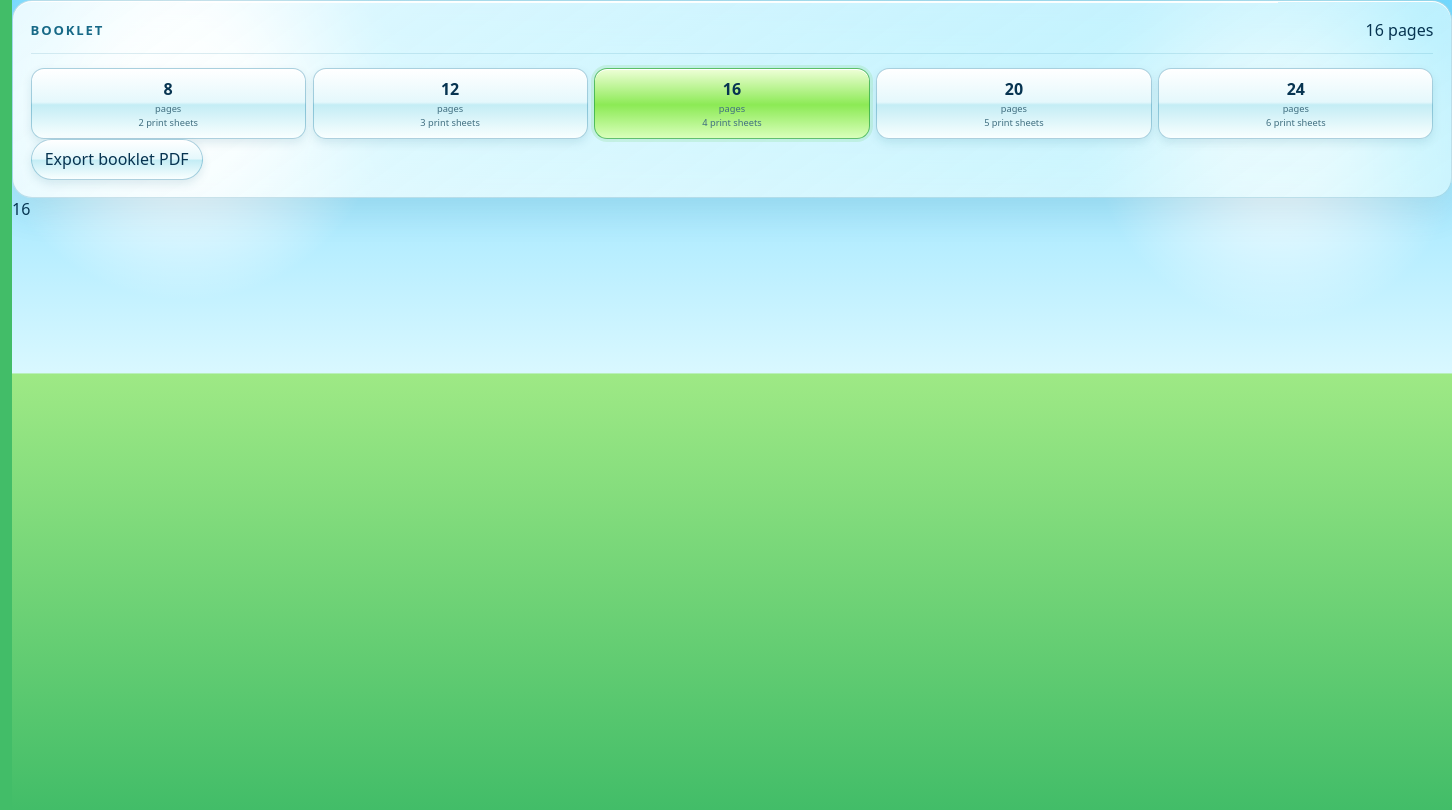
booklet rules › shows the saved path after a successful export
Click the button with test id "export-booklet" at (117,159), box x1=31 y1=139 x2=203 y2=180
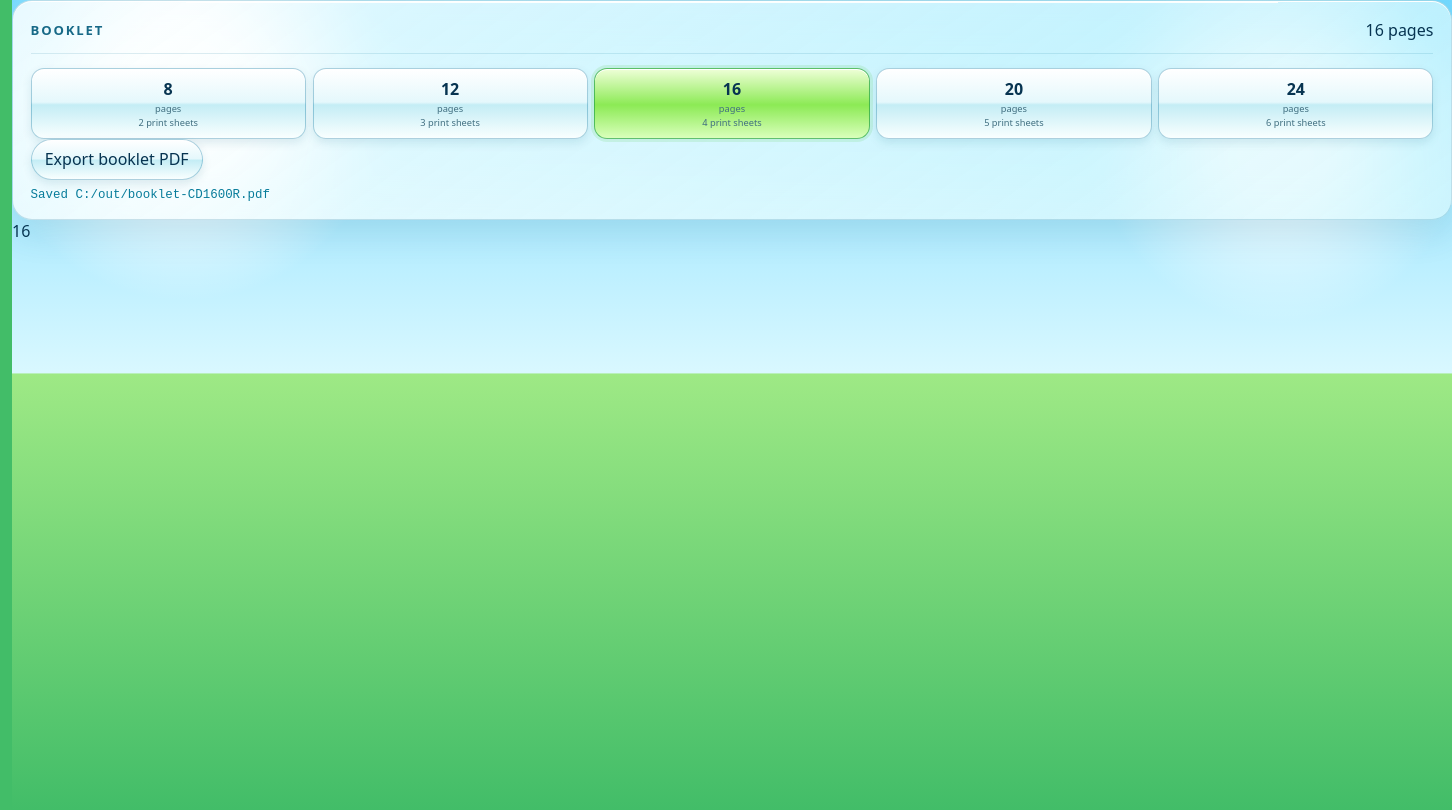
Result: the message with test id "export-message" reads "Saved C:/out/booklet-CD1600R.pdf" at x1=31 y1=188 x2=270 y2=202
